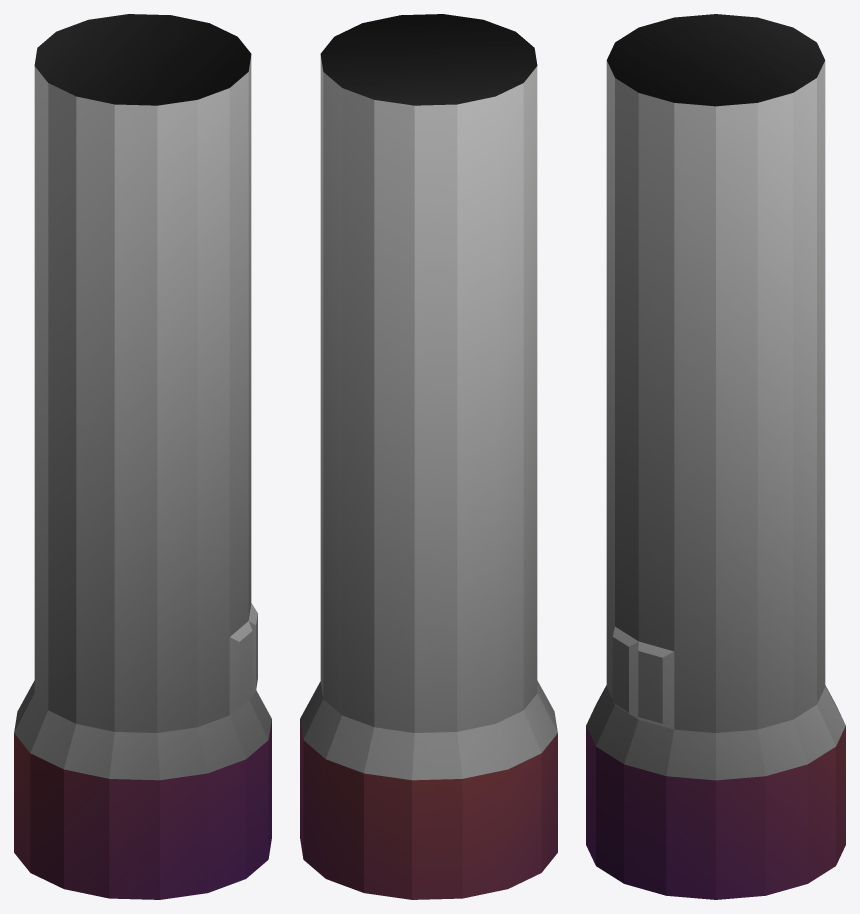
File: oven.glb
3 renders of one model, left to right at view 1: azimuth 30°, elevation 25°; view 2: azimuth 150°, elevation 25°; view 3: azimuth 270°, elevation 25°, orthographic.
Parts seen in each view (by area): view 1: oven, oven_door.R, oven_door.L; view 2: oven; view 3: oven, oven_door.L, oven_door.R.
Part boxes in pixels (x1,y1,x2,y2): oven: [14, 14, 271, 899]; oven_door.R: [229, 621, 252, 714]; oven_door.L: [248, 603, 257, 694]; oven: [300, 14, 557, 899]; oven: [586, 14, 845, 899]; oven_door.L: [638, 641, 674, 729]; oven_door.R: [612, 626, 638, 719].
Size of the model in its own units: 0.9 by 3 by 0.9.
Materials: 1 (1 with a texture image).
